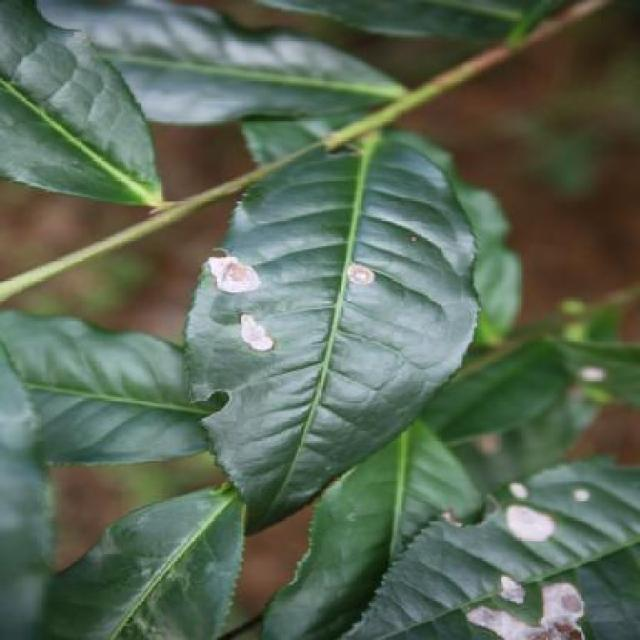Leaf rust of tea: (178, 157, 504, 543), (403, 475, 632, 640)
